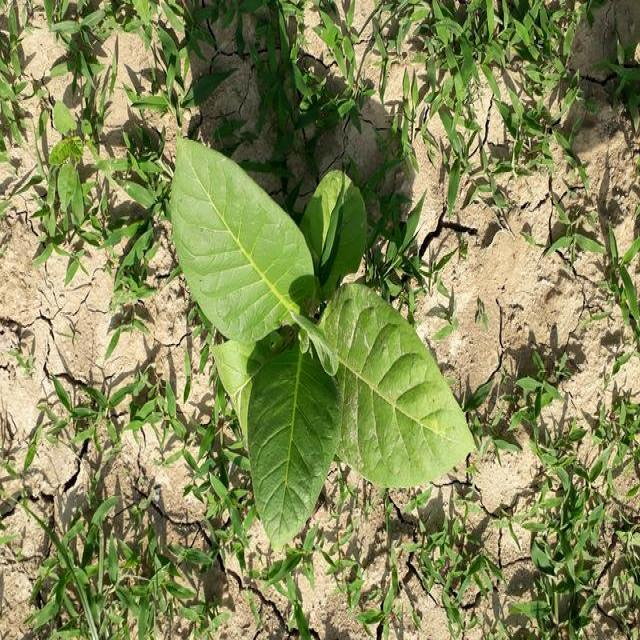crop: (169, 138, 478, 543)
